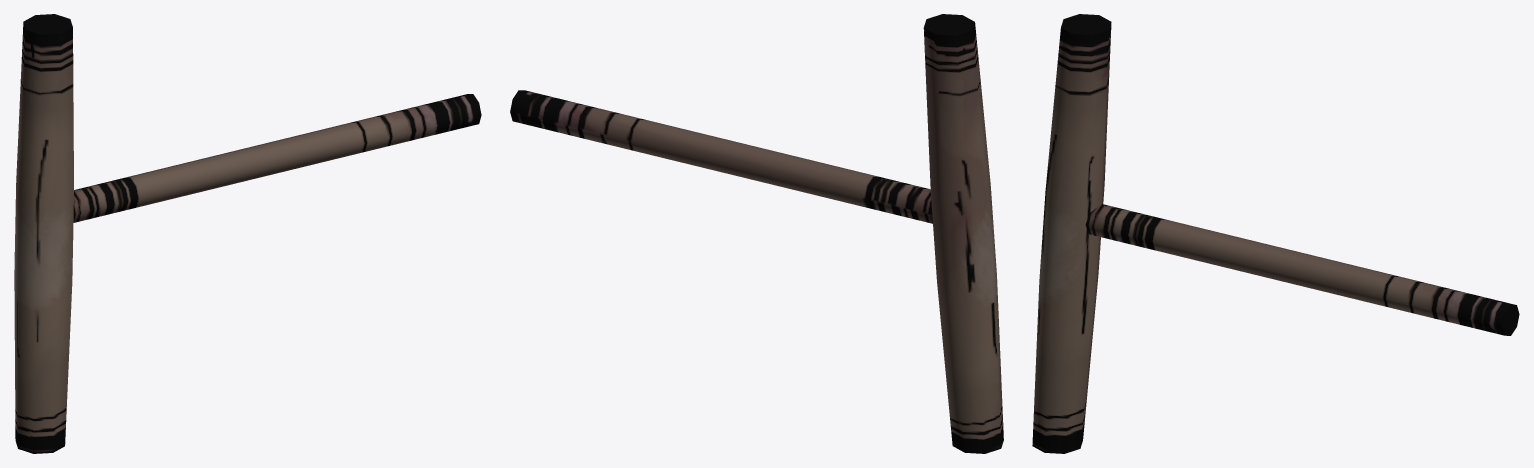
Rendered from armchair_gib5.fbx.
3 renders of one model, left to right at view 1: azimuth 30°, elevation 25°; view 2: azimuth 150°, elevation 25°; view 3: azimuth 330°, elevation 25°, orthographic. The views are drawn at different scales.
Visible parts, largest first — view 1: armchair_gib5; view 2: armchair_gib5; view 3: armchair_gib5.
Part boxes in pixels (x1,y1,x2,y2): armchair_gib5: [14, 14, 481, 453]; armchair_gib5: [510, 14, 1003, 453]; armchair_gib5: [1032, 14, 1519, 453].
Bounding box in the file's own units: 182 × 154 × 24.37.
